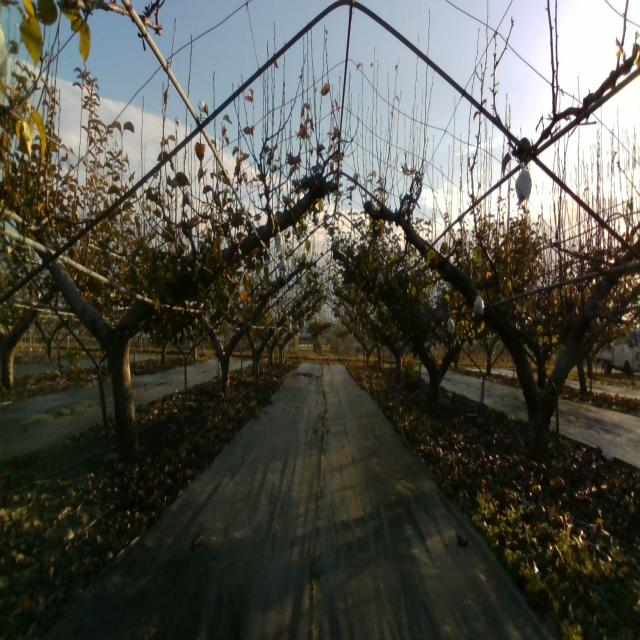pearbags: (515, 162, 532, 202), (474, 290, 484, 316)
